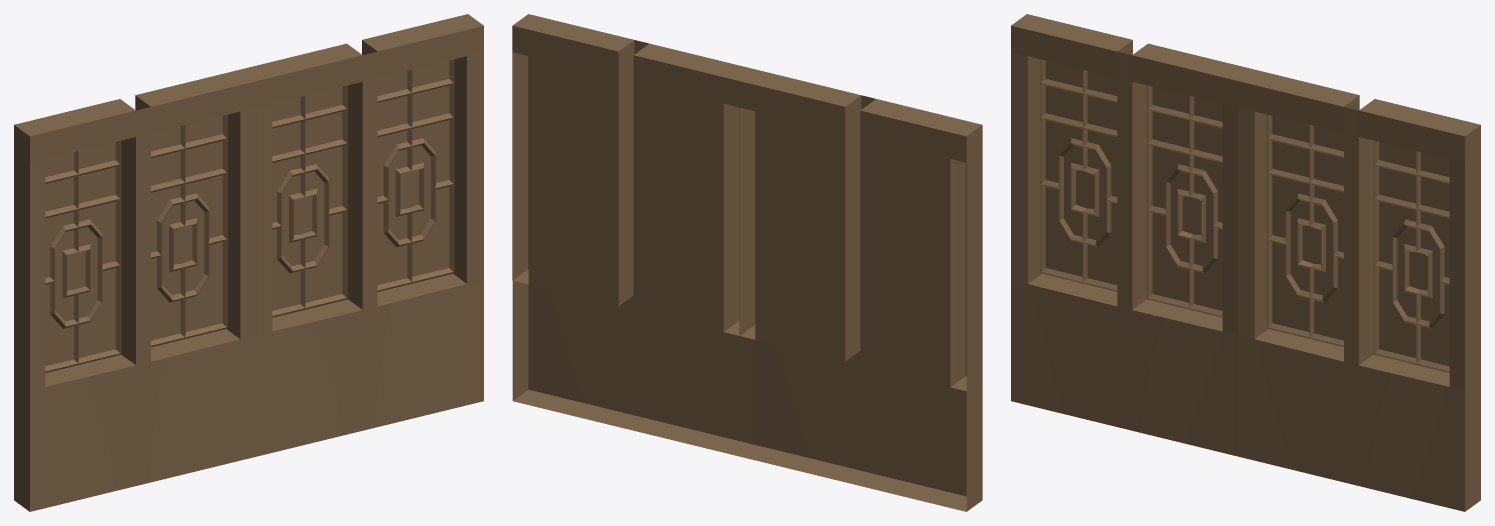
The model's file is SM_Env_Door_18.fbx.
3 views of the same model, side by side, from view 1: azimuth 30°, elevation 25°; view 2: azimuth 150°, elevation 25°; view 3: azimuth 330°, elevation 25° (orthographic).
Visible parts, largest first — view 1: SM_Env_Door_18; view 2: SM_Env_Door_18; view 3: SM_Env_Door_18.
Boxes of the visible parts, <box> form: SM_Env_Door_18: <box>14,14,483,511</box>; SM_Env_Door_18: <box>512,14,982,511</box>; SM_Env_Door_18: <box>1011,14,1480,511</box>.
Bounding box in the file's own units: 166 × 131 × 10.09.
1 material, 1 textured.
